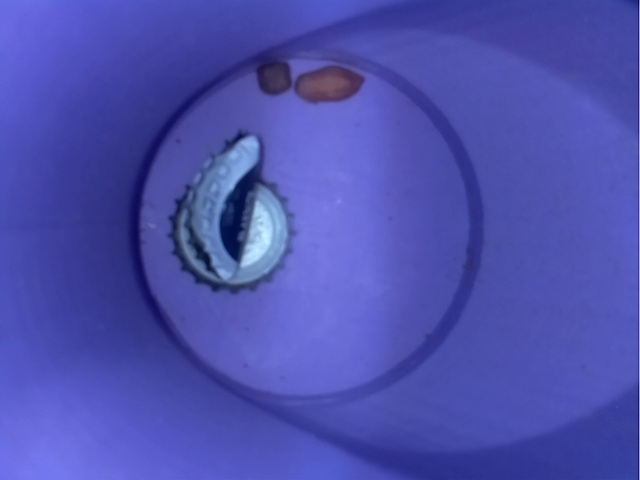capsule: (160, 172, 297, 300), (174, 123, 263, 303)
croquette: (290, 57, 379, 108), (249, 56, 297, 101)
